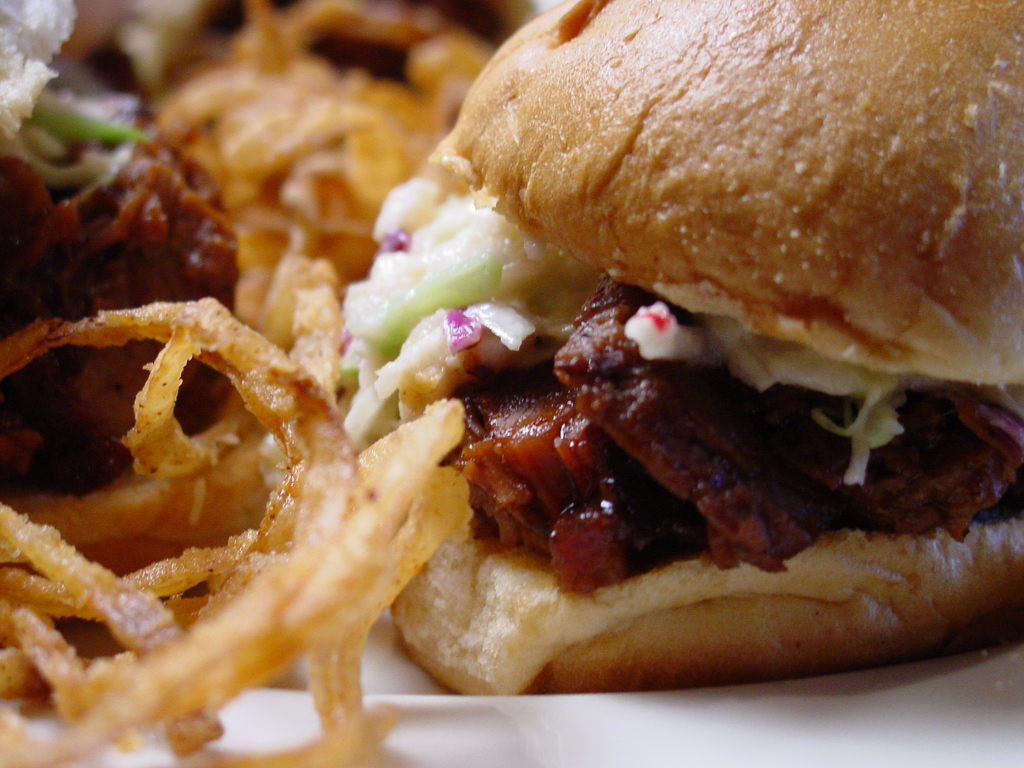Hamburger: (337, 0, 1023, 702)
